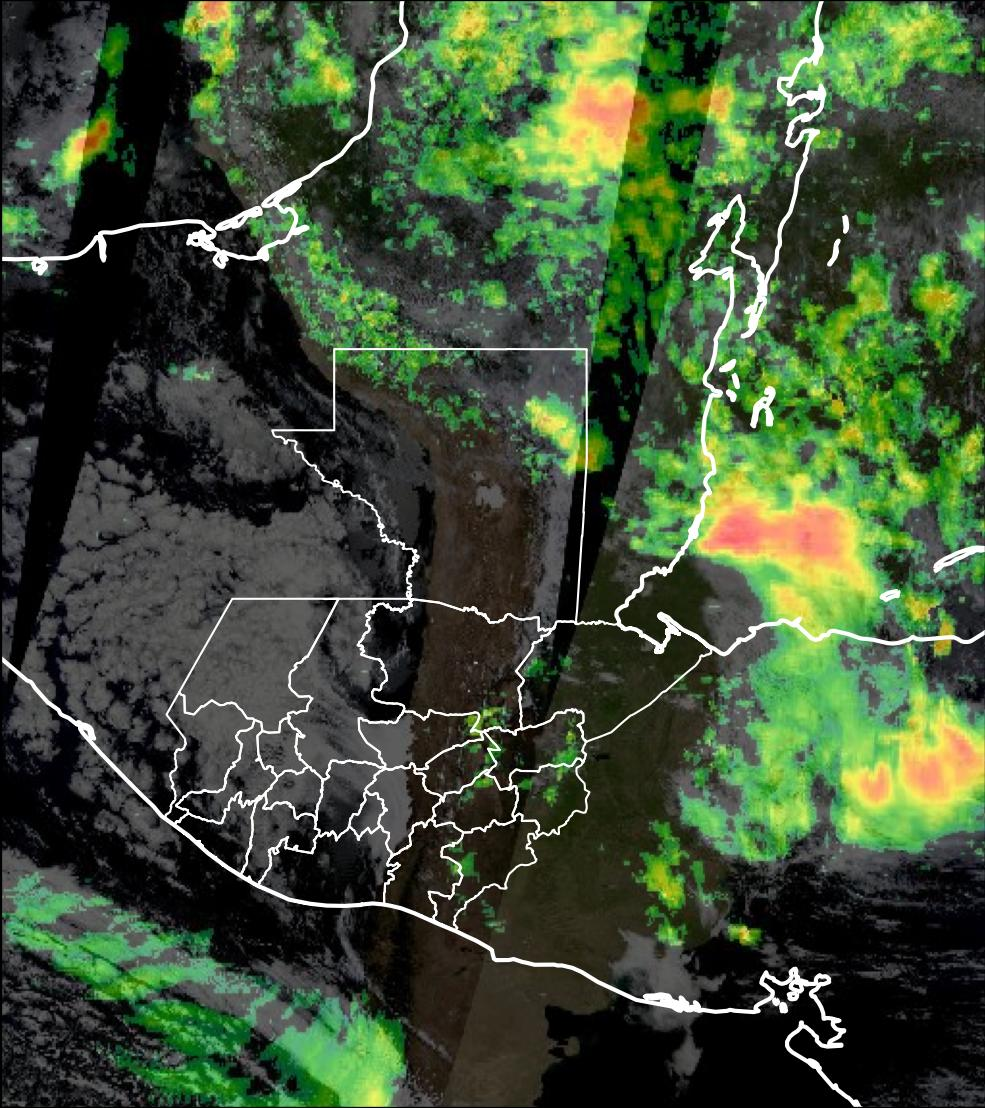precipitacion: (709, 490, 880, 589), (843, 707, 980, 830), (564, 72, 660, 175)
